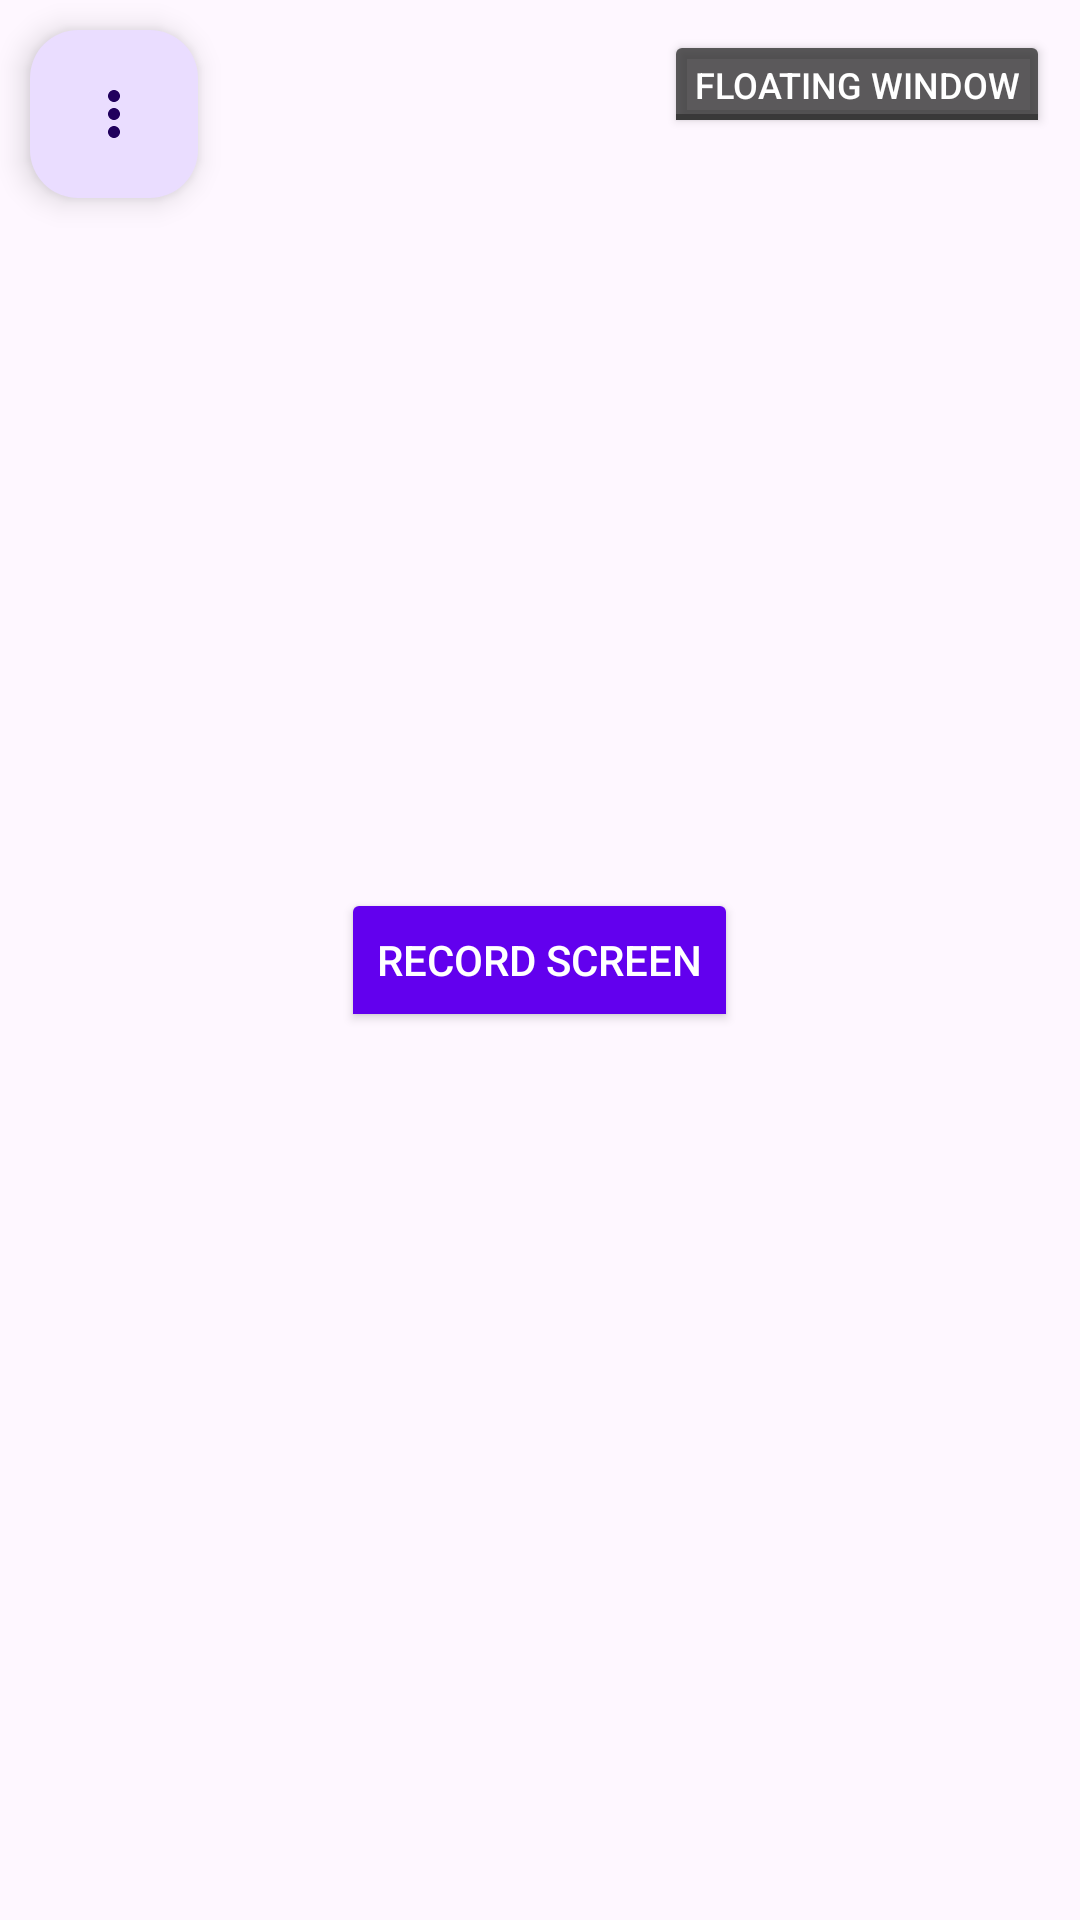

Locate icon controls on the screen. Image size 1080*1920, boxes as [x1,y1,x2,y2].
Menu actions: [108,90,120,138]
